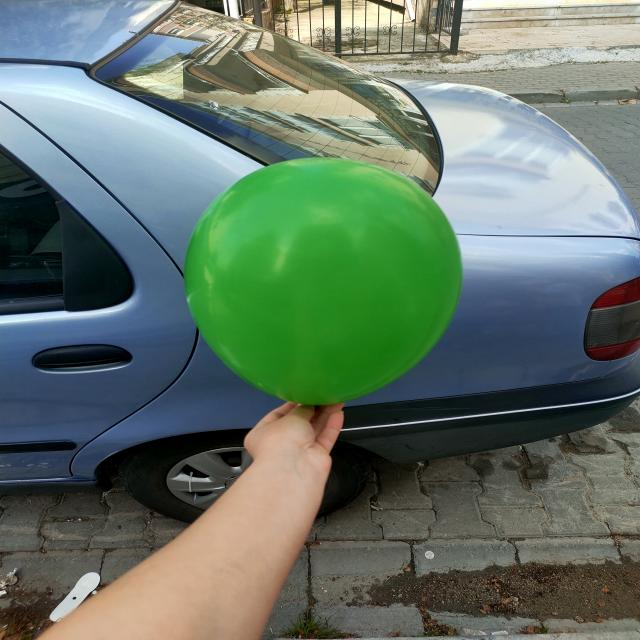green: (190, 159, 462, 408)
